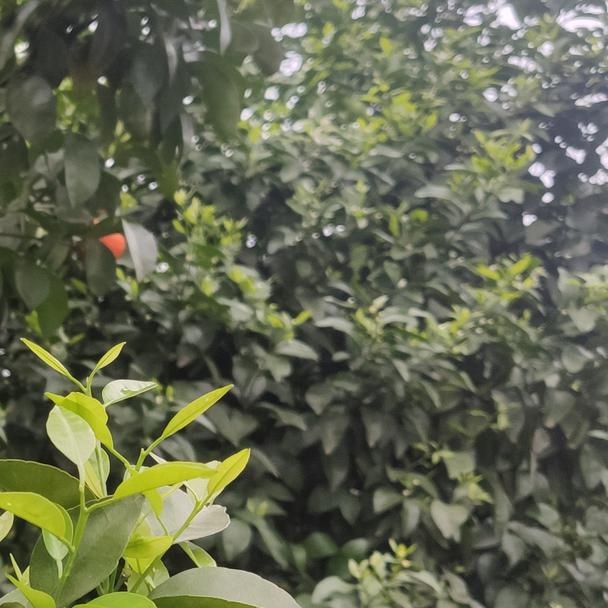shoot: (21, 419, 190, 608), (21, 326, 158, 499), (143, 444, 263, 576)
